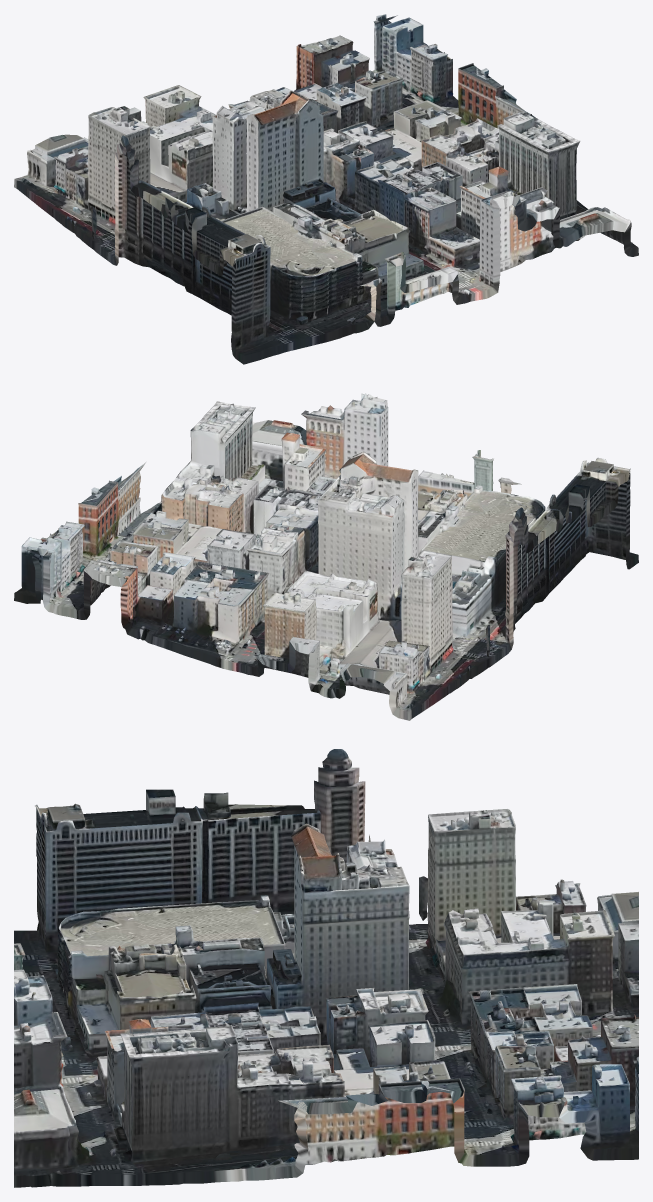
File: z17-20967-50656-h0-yup-uvflip-v3-world.glb
3 views of the same model, one above another, from view 1: azimuth 30°, elevation 25°; view 2: azimuth 150°, elevation 25°; view 3: azimuth 270°, elevation 25° (orthographic). The views are drawn at different scales.
Size of the model in its own units: 242 by 85.44 by 243.
Materials: 1 (1 with a texture image).
